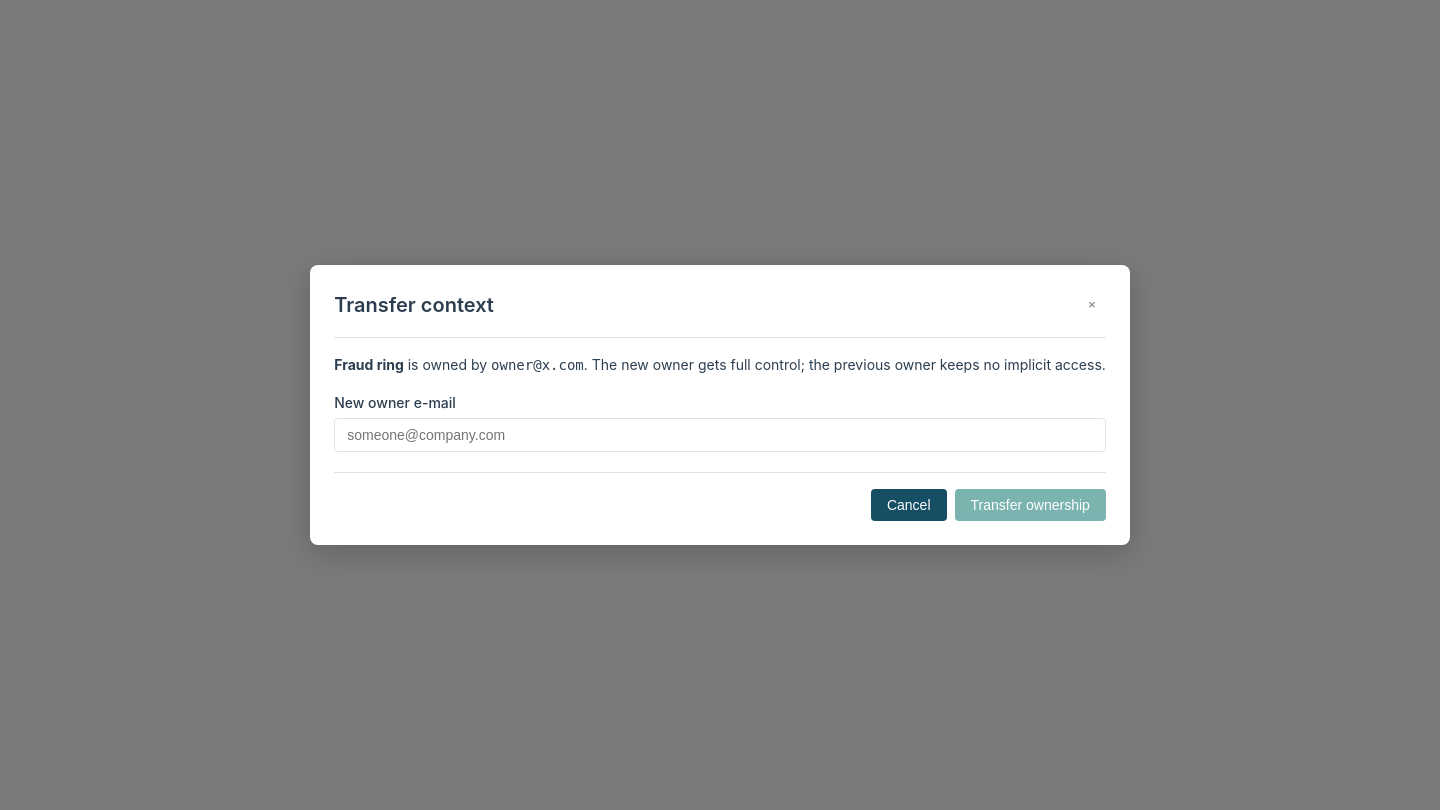
Test: TransferOwnershipModal › disables confirm until a valid, different e-mail is typed
Expected: the button with test id "admin-transfer-confirm" is disabled, top-left (954, 489), bottom-right (1106, 521)
In the field with test id "admin-transfer-input": (720, 435) top-left (334, 418), bottom-right (1106, 452), type "*@x.com"
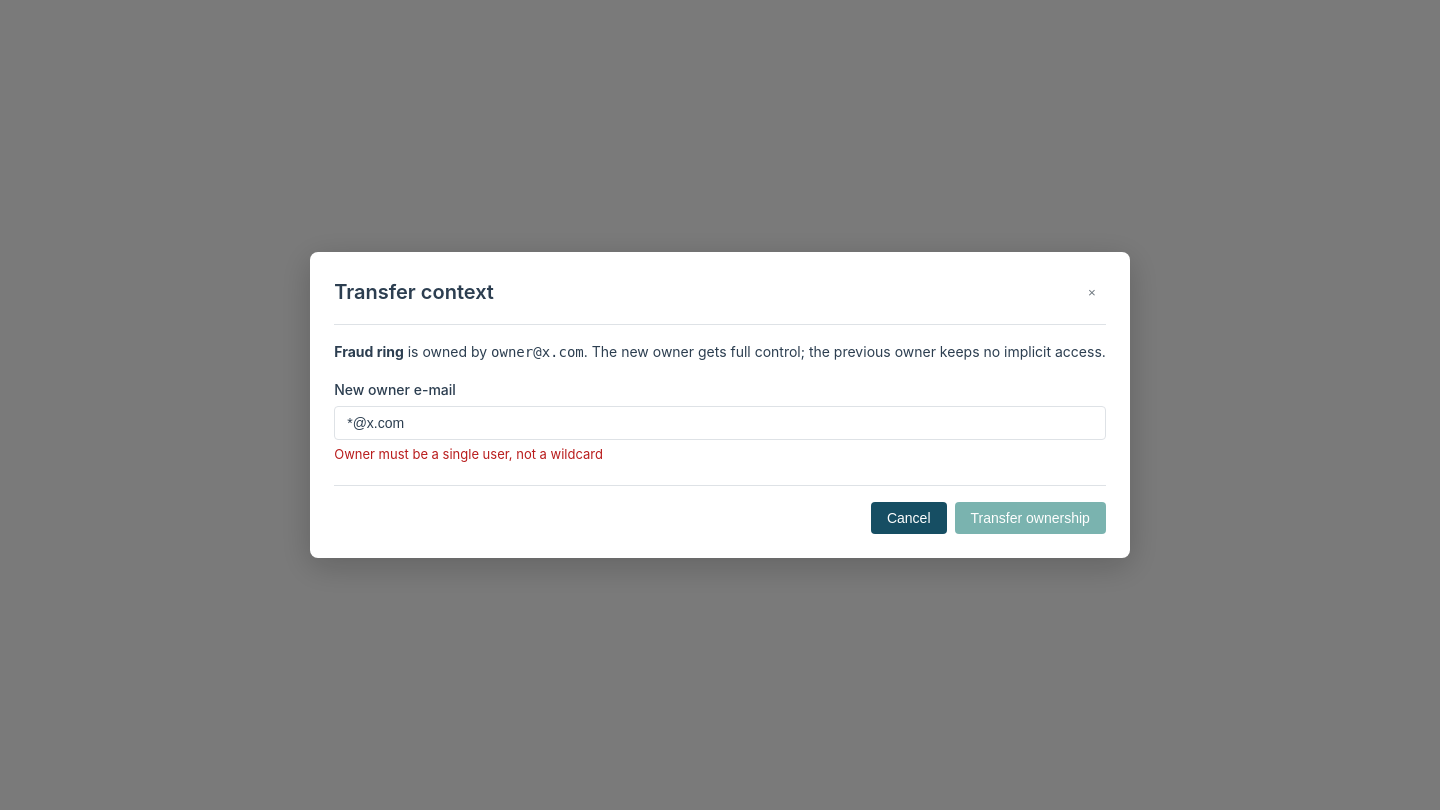
Expected: the button with test id "admin-transfer-confirm" is disabled, top-left (954, 502), bottom-right (1106, 534)
Now the text with test id "admin-transfer-error" shows "wildcard", box top-left (334, 446), bottom-right (603, 462)
Replace the text in the field with test id "admin-transfer-input" with "owner@x.com": (720, 423) top-left (334, 406), bottom-right (1106, 440)
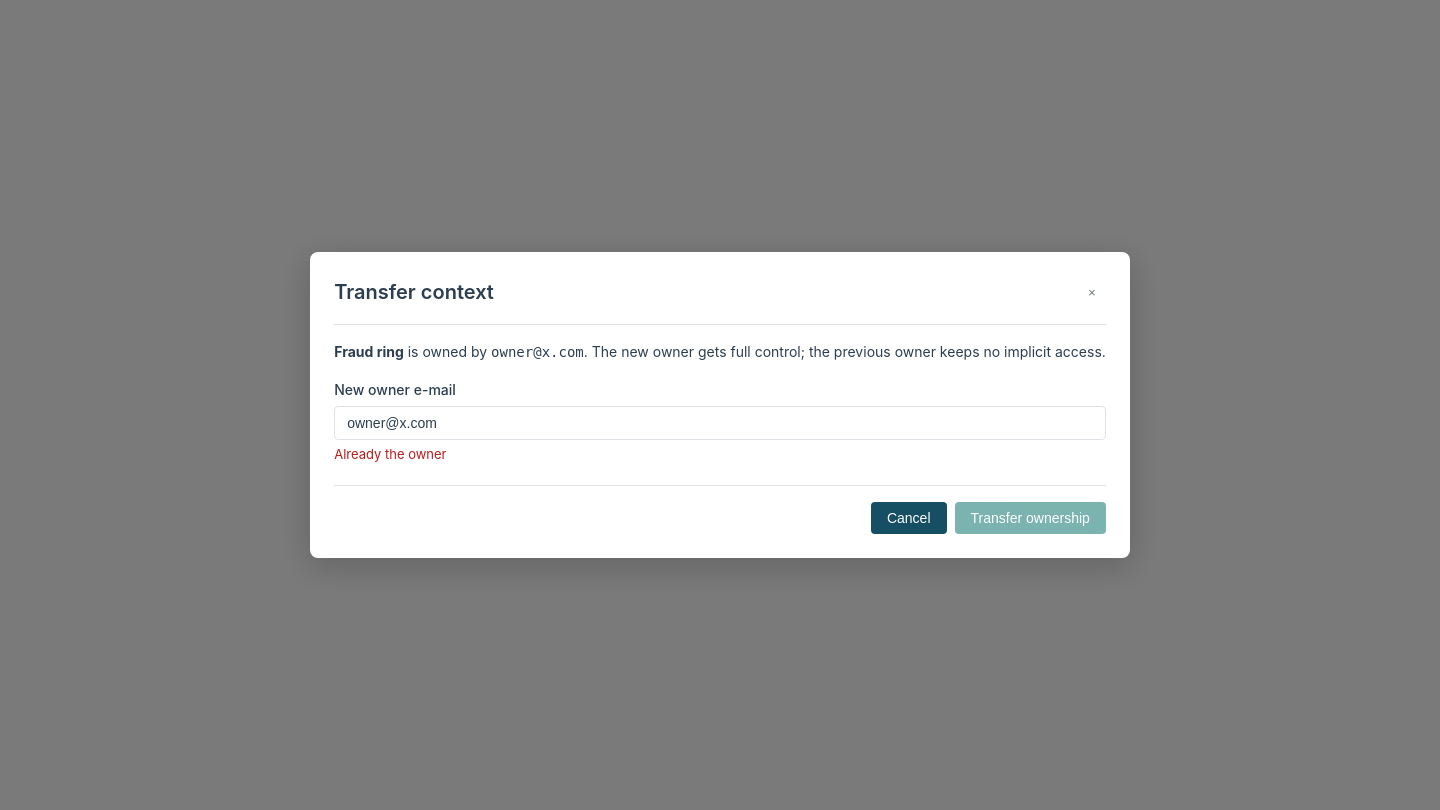
Now the text with test id "admin-transfer-error" shows "Already", box top-left (334, 446), bottom-right (446, 462)
Replace the text in the field with test id "admin-transfer-input" with "new@x.com": (720, 423) top-left (334, 406), bottom-right (1106, 440)
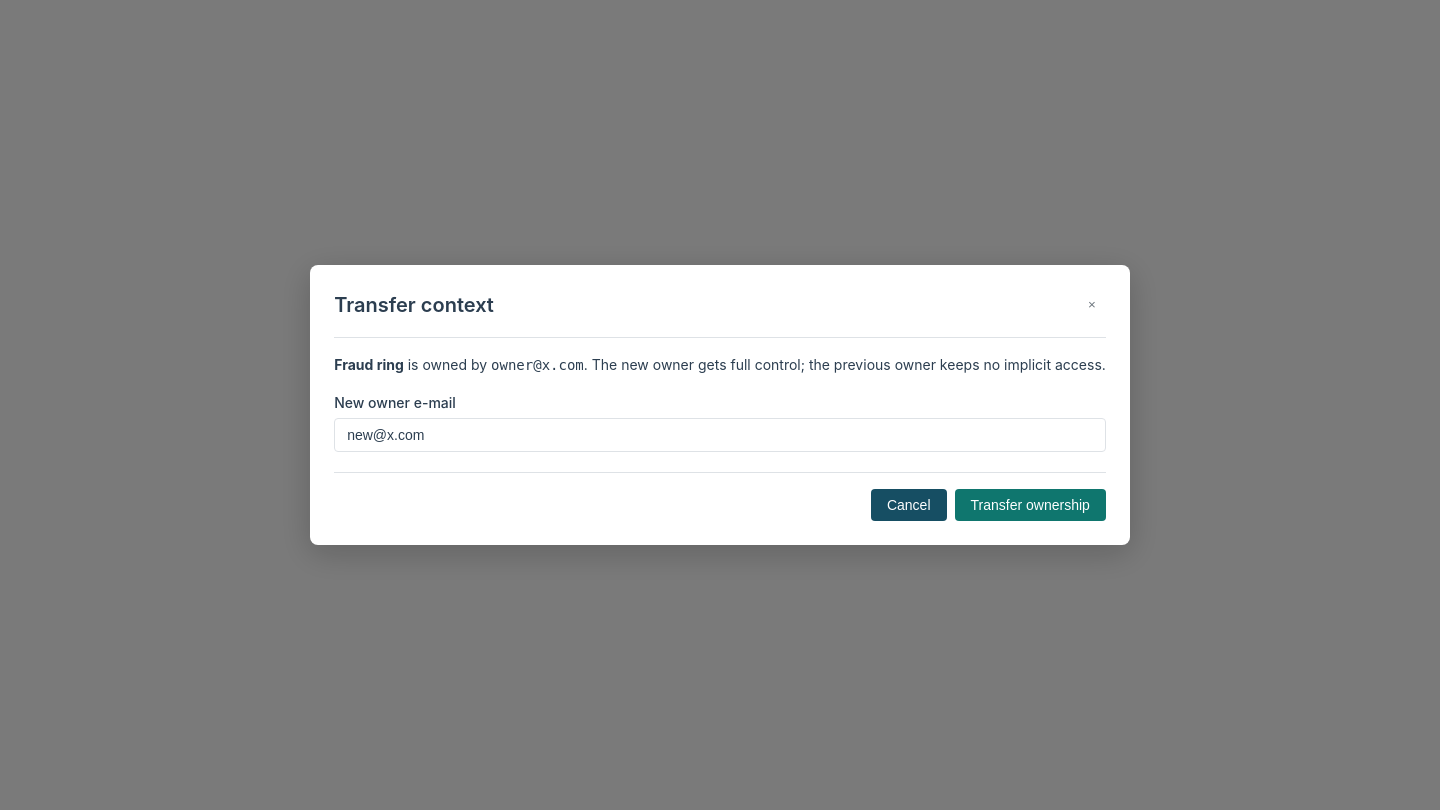
Now the text with test id "admin-transfer-error" is gone
Now the button with test id "admin-transfer-confirm" is enabled, box top-left (954, 489), bottom-right (1106, 521)
